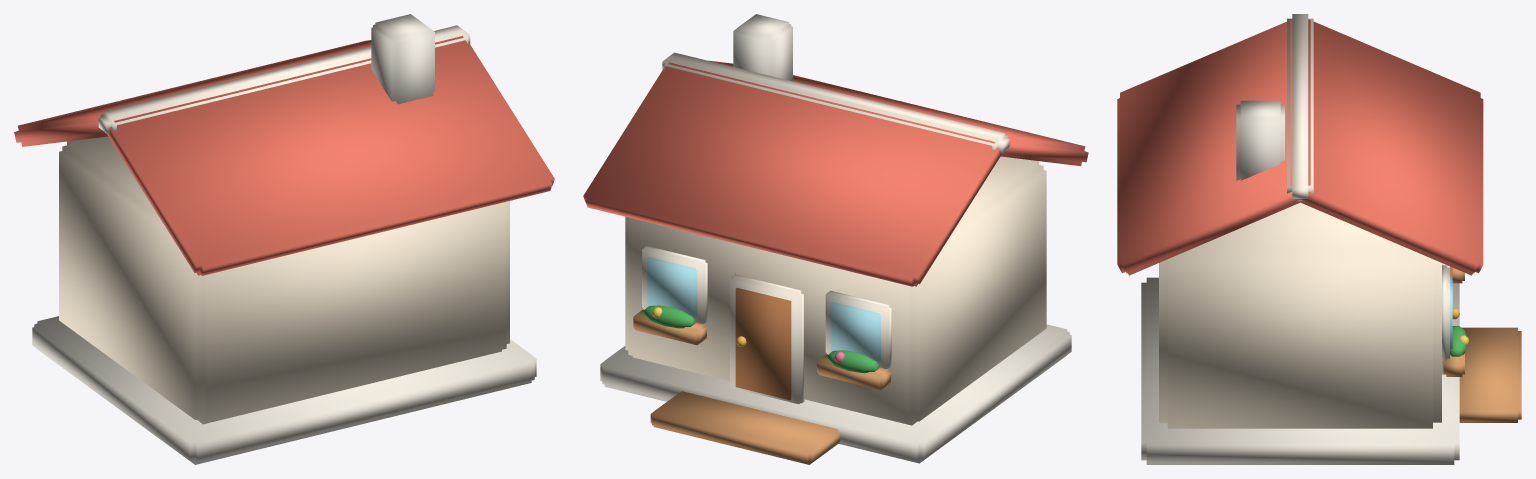
Rendered from CoastalHouse.fbx.
3 renders of one model, left to right at view 1: azimuth 30°, elevation 25°; view 2: azimuth 150°, elevation 25°; view 3: azimuth 270°, elevation 25°, orthographic. The views are drawn at different scales.
Visible parts, largest first — view 1: CoastalHouse; view 2: CoastalHouse; view 3: CoastalHouse.
Boxes of the visible parts, x1,y1,x2,y2 form: CoastalHouse: (14,14,554,464); CoastalHouse: (583,14,1088,464); CoastalHouse: (1117,14,1521,464).
Bounding box in the file's own units: 4.62 × 4.03 × 4.57.
